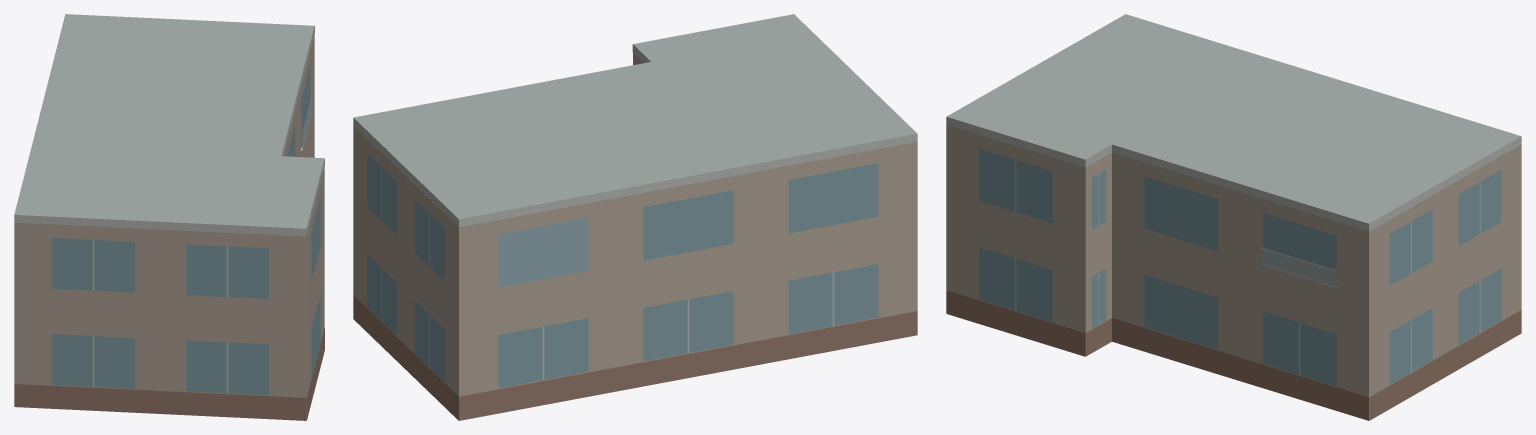
Rendered from survey-upis-32827362.glb.
3 views of the same model, side by side, from view 1: azimuth 30°, elevation 25°; view 2: azimuth 150°, elevation 25°; view 3: azimuth 270°, elevation 25° (orthographic). The views are drawn at different scales.
Parts seen in each view (by area): view 1: survey-upis-32827362.tmp; view 2: survey-upis-32827362.tmp; view 3: survey-upis-32827362.tmp.
Boxes of the visible parts, x1,y1,x2,y2 form: survey-upis-32827362.tmp: [14, 14, 324, 420]; survey-upis-32827362.tmp: [353, 14, 917, 420]; survey-upis-32827362.tmp: [946, 14, 1521, 420].
Size of the model in its own units: 13.94 by 6.1 by 16.15.
